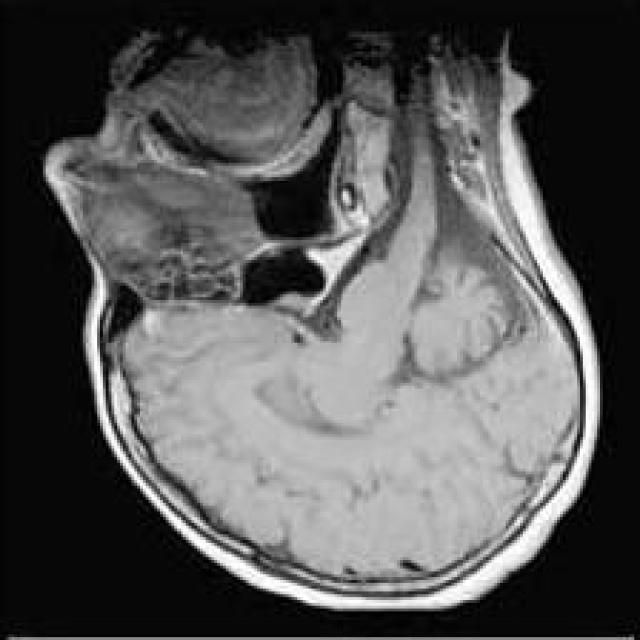no_tumor: (31, 193, 624, 640)
